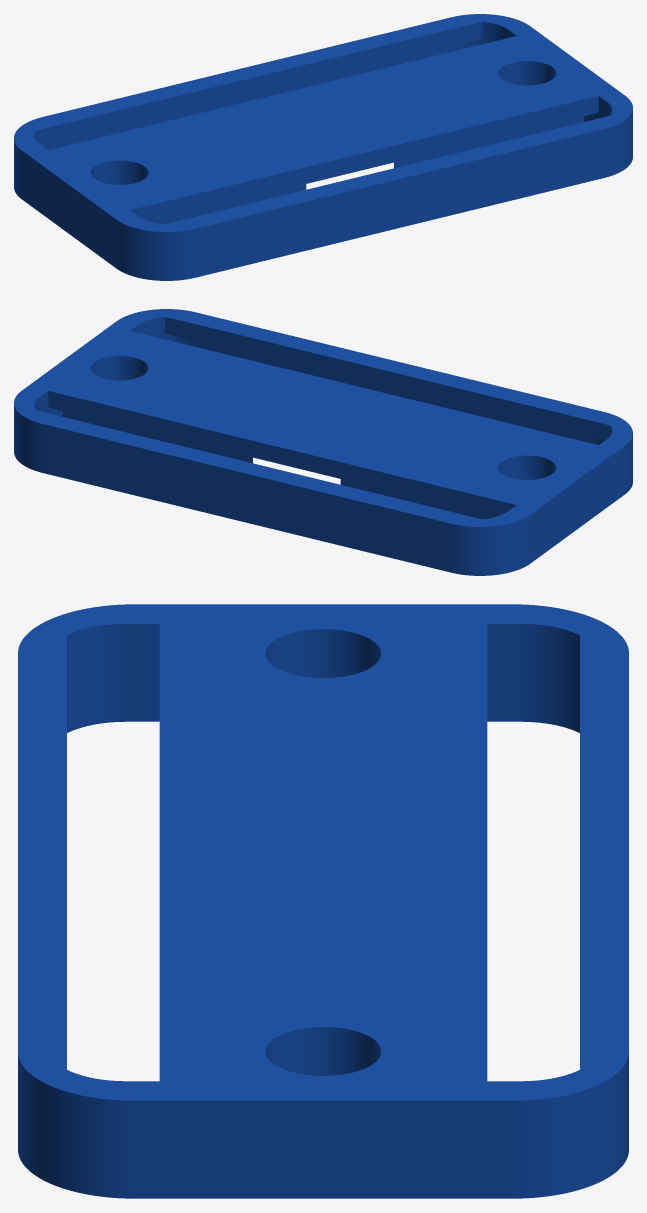
File: Assembly 2 - Rack gear housing.obj
3 renders of one model, top to bottom at view 1: azimuth 30°, elevation 25°; view 2: azimuth 150°, elevation 25°; view 3: azimuth 270°, elevation 25°, orthographic. The views are drawn at different scales.
Visible parts, largest first — view 1: mesh4, mesh10, mesh18, mesh24, mesh8, mesh9, mesh27, mesh11, mesh39, mesh29, mesh0, mesh35 (+2 smaller); view 2: mesh4, mesh6, mesh19, mesh13, mesh8, mesh7, mesh16, mesh5, mesh40, mesh29, mesh0, mesh34 (+2 smaller); view 3: mesh4, mesh12, mesh5, mesh11, mesh14, mesh25, mesh29, mesh0, mesh20, mesh22.
Part boxes in pixels (<box>): mesh4: <box>14,14,632,231</box>; mesh10: <box>195,129,603,277</box>; mesh18: <box>130,96,598,221</box>; mesh24: <box>36,22,481,145</box>; mesh8: <box>21,150,116,268</box>; mesh9: <box>116,220,195,280</box>; mesh27: <box>54,45,455,148</box>; mesh11: <box>604,110,632,177</box>; mesh39: <box>394,116,584,168</box>; mesh29: <box>498,61,556,85</box>; mesh0: <box>90,160,148,184</box>; mesh35: <box>151,184,306,224</box>; mesh4: <box>14,309,632,526</box>; mesh6: <box>43,424,451,572</box>; mesh19: <box>48,391,516,516</box>; mesh13: <box>165,317,610,440</box>; mesh8: <box>530,445,625,563</box>; mesh7: <box>451,515,530,575</box>; mesh16: <box>191,340,592,443</box>; mesh5: <box>14,405,42,472</box>; mesh40: <box>62,411,252,463</box>; mesh29: <box>90,356,148,380</box>; mesh0: <box>498,455,556,479</box>; mesh34: <box>340,479,495,519</box>; mesh4: <box>18,604,628,1100</box>; mesh12: <box>133,1100,513,1198</box>; mesh5: <box>513,1055,628,1198</box>; mesh11: <box>18,1054,133,1198</box>; mesh14: <box>67,624,125,732</box>; mesh25: <box>521,624,579,732</box>; mesh29: <box>265,1027,381,1075</box>; mesh0: <box>265,629,381,677</box>; mesh20: <box>487,624,521,721</box>; mesh22: <box>125,624,159,721</box>.
Bounding box in the file's own units: 0.0761 × 0.007 × 0.0396.
